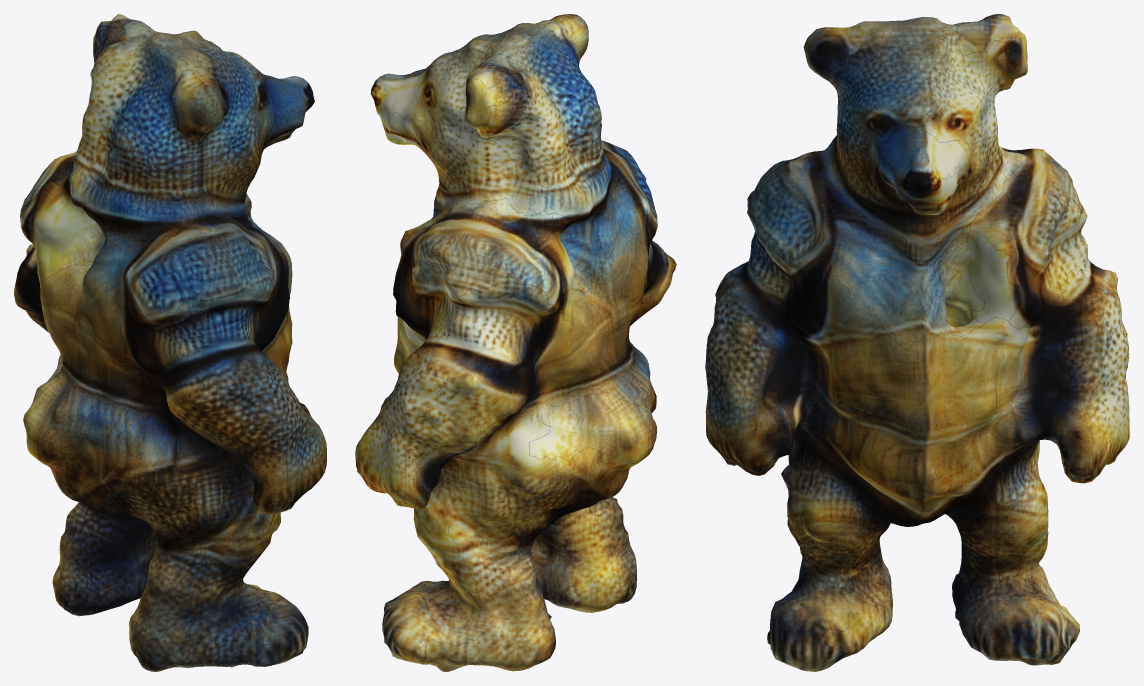
Rendered from bear_armored.glb.
The picture shows the model from 3 angles, left to right: view 1: azimuth 30°, elevation 25°; view 2: azimuth 150°, elevation 25°; view 3: azimuth 270°, elevation 25°; orthographic projection. The views are drawn at different scales.
Parts seen in each view (by area): view 1: Mesh1; view 2: Mesh1; view 3: Mesh1.
Part boxes in pixels (x1,y1,x2,y2): Mesh1: [14, 14, 326, 671]; Mesh1: [355, 14, 676, 671]; Mesh1: [705, 14, 1129, 671].
Bounding box in the file's own units: 0.5792 × 1.2 × 0.7378.
1 material, 1 textured.
